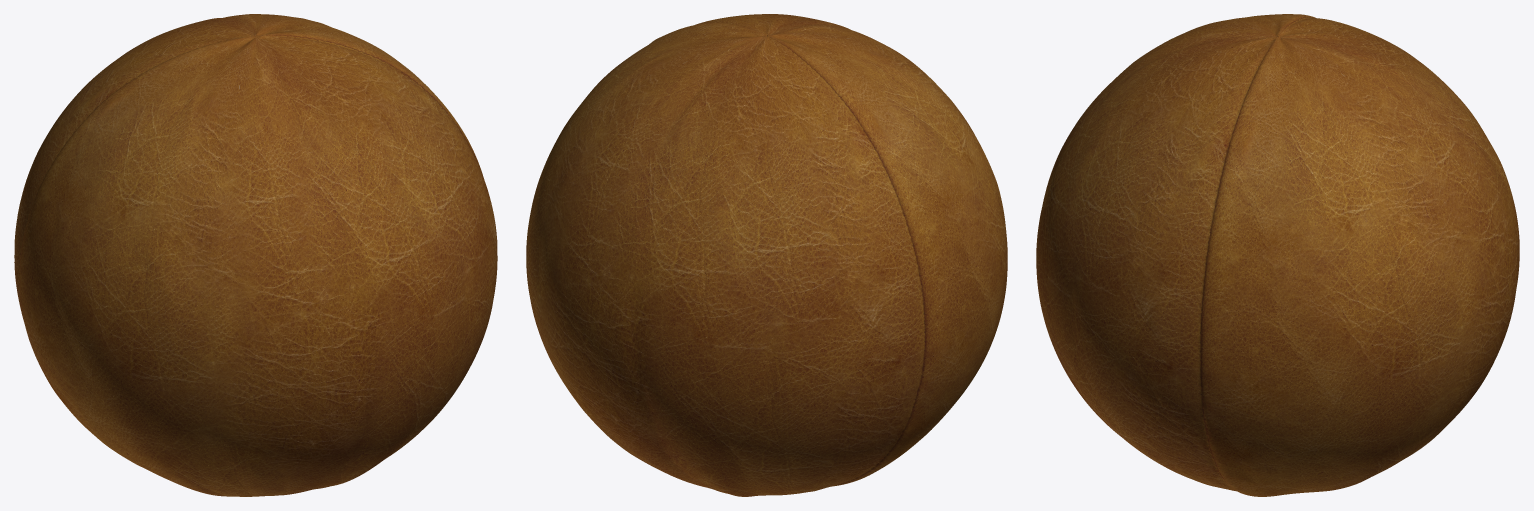
File: fabric_leather_02_2k.gltf
The picture shows the model from 3 angles, left to right: view 1: azimuth 30°, elevation 25°; view 2: azimuth 150°, elevation 25°; view 3: azimuth 270°, elevation 25°; orthographic projection.
Visible parts, largest first — view 1: sphere_gltf; view 2: sphere_gltf; view 3: sphere_gltf.
Part boxes in pixels (x1,y1,x2,y2): sphere_gltf: (14, 14, 497, 496); sphere_gltf: (526, 14, 1007, 496); sphere_gltf: (1036, 14, 1519, 496).
Size of the model in its own units: 0.4998 by 0.5049 by 0.5035.
1 material, 1 textured.
